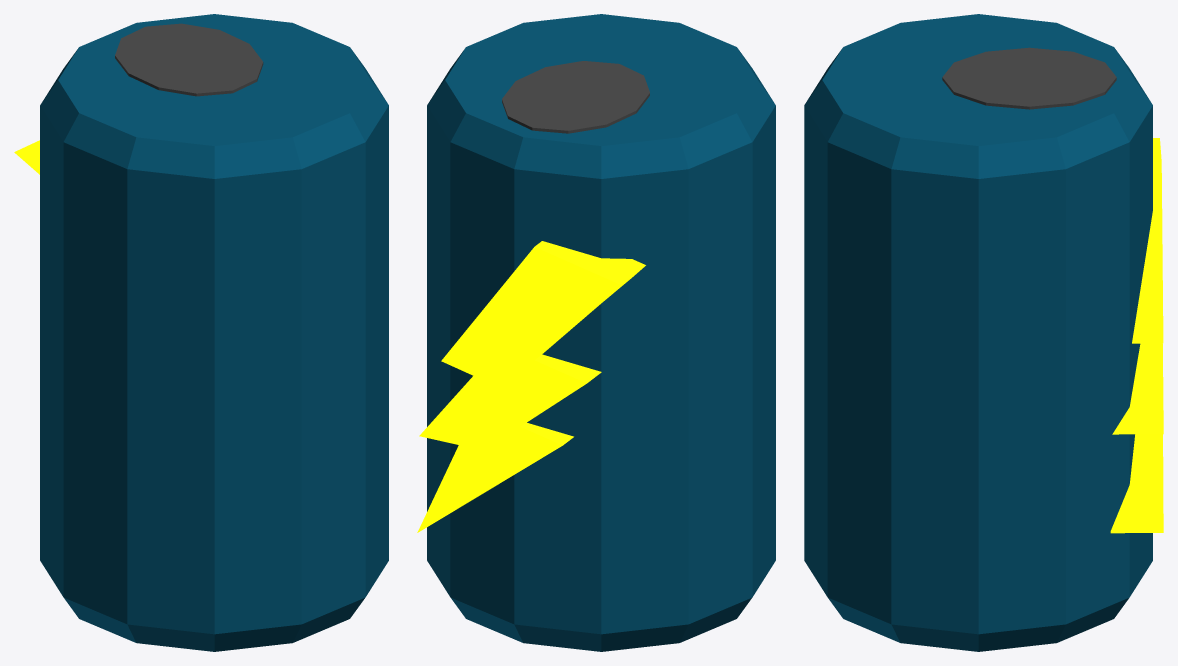
Rendered from EnergyDrink.fbx.
The picture shows the model from 3 angles, left to right: view 1: azimuth 30°, elevation 25°; view 2: azimuth 150°, elevation 25°; view 3: azimuth 270°, elevation 25°; orthographic projection.
Parts seen in each view (by area): view 1: Cylinder.001; view 2: Cylinder.001; view 3: Cylinder.001.
Boxes of the visible parts, box(x1,y1,x2,y2) form: Cylinder.001: box(14, 14, 388, 651); Cylinder.001: box(417, 14, 775, 651); Cylinder.001: box(804, 14, 1163, 651).
Bounding box in the file's own units: 200 × 322 × 206.
